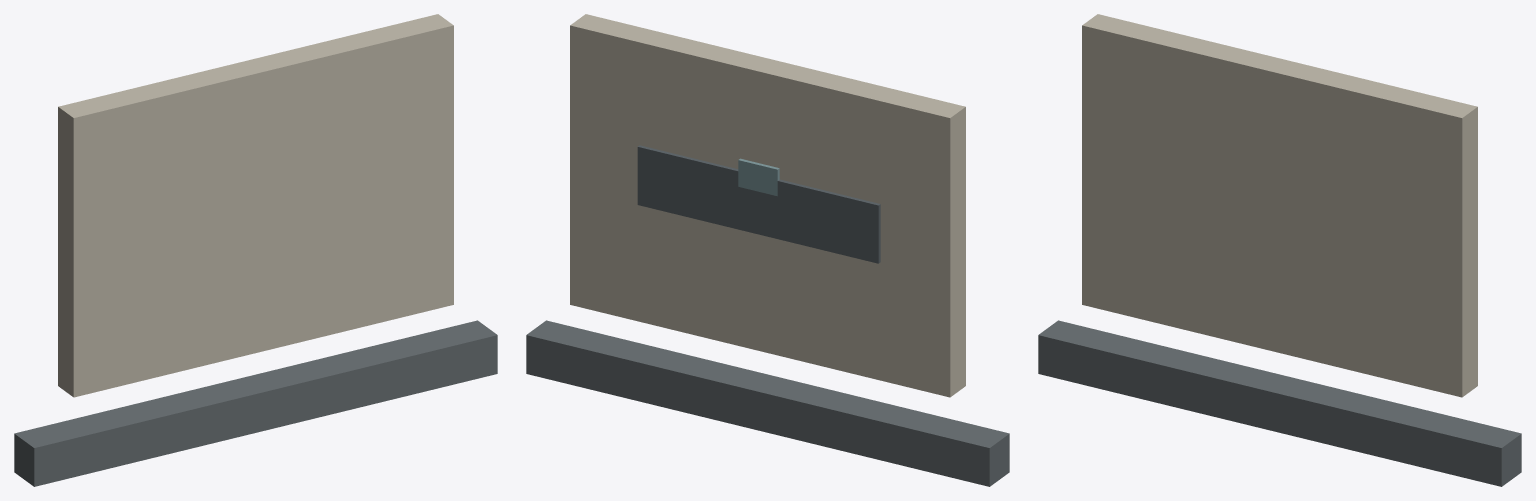
Rendered from iz3_military_gate_01.glb.
3 views of the same model, side by side, from view 1: azimuth 30°, elevation 25°; view 2: azimuth 150°, elevation 25°; view 3: azimuth 330°, elevation 25° (orthographic).
Visible parts, largest first — view 1: cabinet, base; view 2: cabinet, base, panel, display; view 3: cabinet, base.
Boxes of the visible parts, <box> form: cabinet: <box>58,14,453,397</box>; base: <box>14,320,497,486</box>; cabinet: <box>570,14,965,397</box>; base: <box>526,320,1009,486</box>; panel: <box>637,145,880,263</box>; display: <box>738,158,779,196</box>; cabinet: <box>1082,14,1477,397</box>; base: <box>1038,320,1521,486</box>.
Size of the model in its own units: 4 by 2.94 by 0.3.
